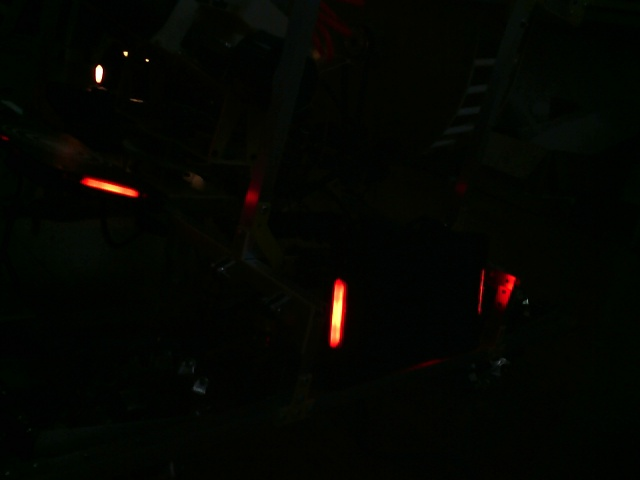lamp: (329, 277, 345, 349), (476, 264, 486, 314)
